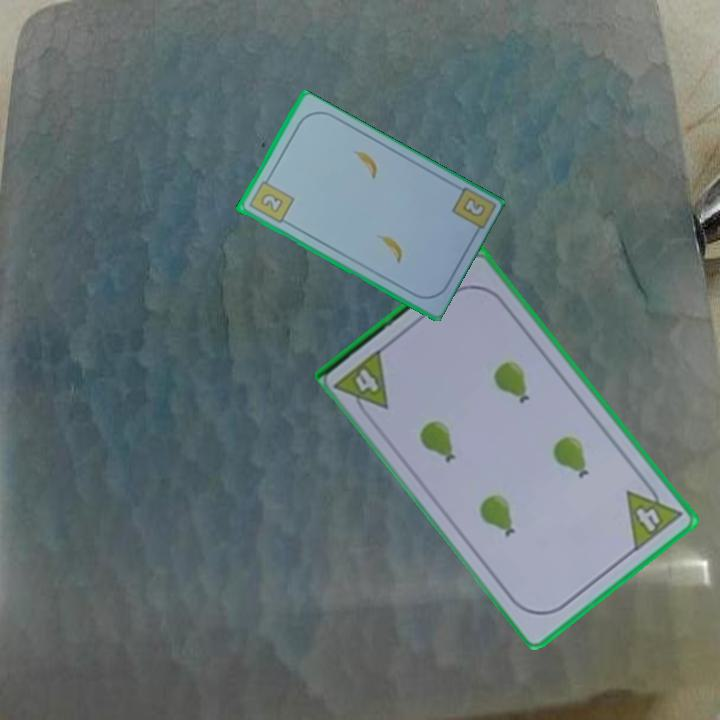2b: (245, 173, 296, 226), (459, 194, 488, 220)
4p: (622, 474, 685, 554), (332, 345, 392, 423)
